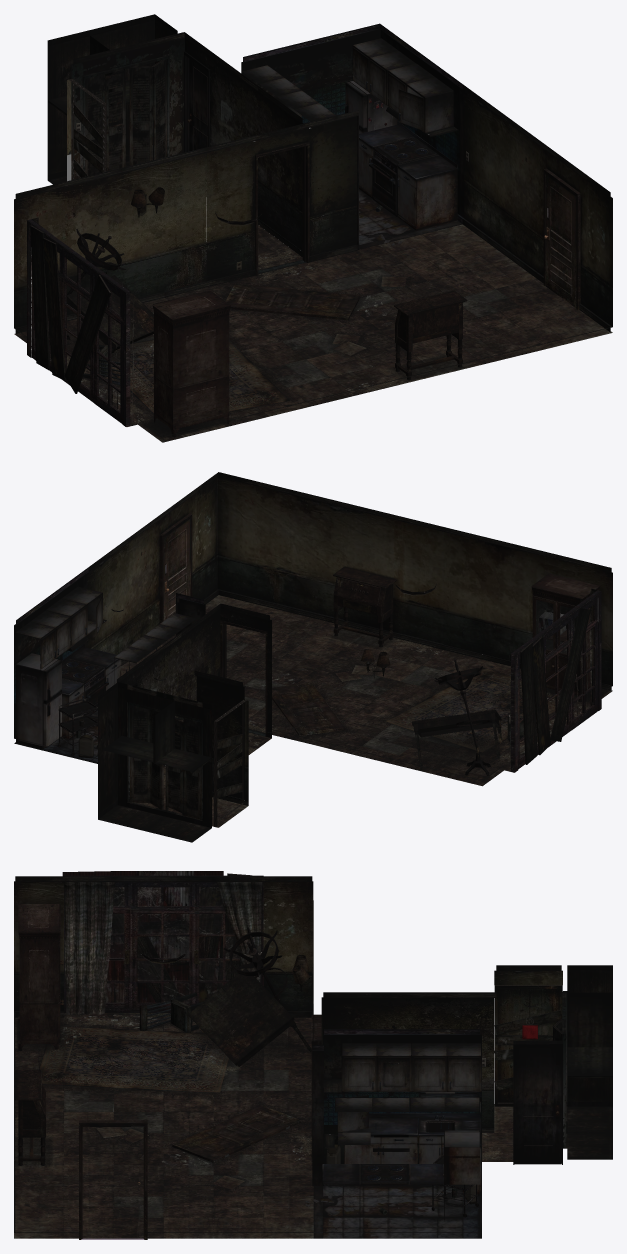
File: room-upper.glb
3 views of the same model, one above another, from view 1: azimuth 30°, elevation 25°; view 2: azimuth 150°, elevation 25°; view 3: azimuth 270°, elevation 25° (orthographic). The views are drawn at different scales.
Parts seen in each view (by area): view 1: skpC6D1_3; view 2: skpC6D1_3; view 3: skpC6D1_3.
Boxes of the visible parts, box(x1,y1,x2,y2) form: skpC6D1_3: box(14, 14, 612, 442); skpC6D1_3: box(14, 472, 612, 842); skpC6D1_3: box(14, 871, 612, 1239).
Size of what is drawn, in the model's own units: 10.19 by 2.95 by 11.21.
Materials: 18 (18 with a texture image).
